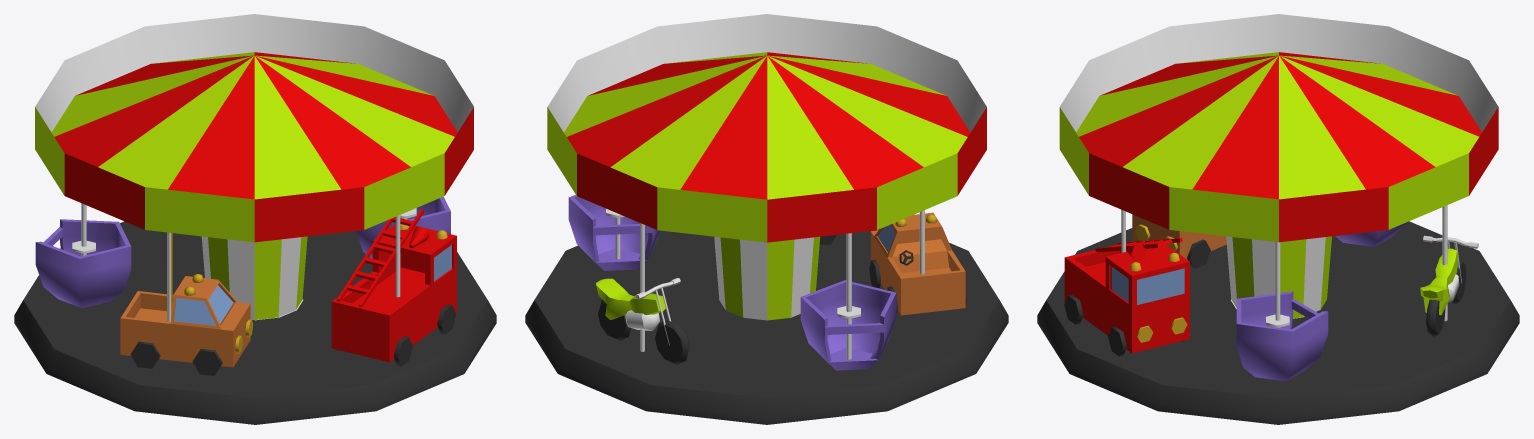
The model's file is karussell.fbx.
3 views of the same model, side by side, from view 1: azimuth 30°, elevation 25°; view 2: azimuth 150°, elevation 25°; view 3: azimuth 270°, elevation 25° (orthographic).
Parts seen in each view (by area): view 1: top, bottom; view 2: top, bottom; view 3: top, bottom.
Part boxes in pixels (x1,y1,x2,y2): top: (35, 14, 473, 375); bottom: (14, 221, 496, 424); top: (547, 14, 986, 370); bottom: (525, 229, 1008, 424); top: (1059, 14, 1498, 381); bottom: (1037, 221, 1519, 424).
Bounding box in the file's own units: 143 × 87.71 × 143.
